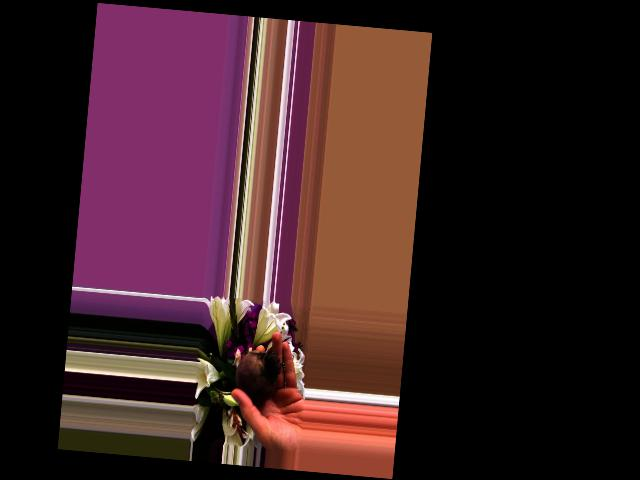beet: (213, 345, 280, 406)
